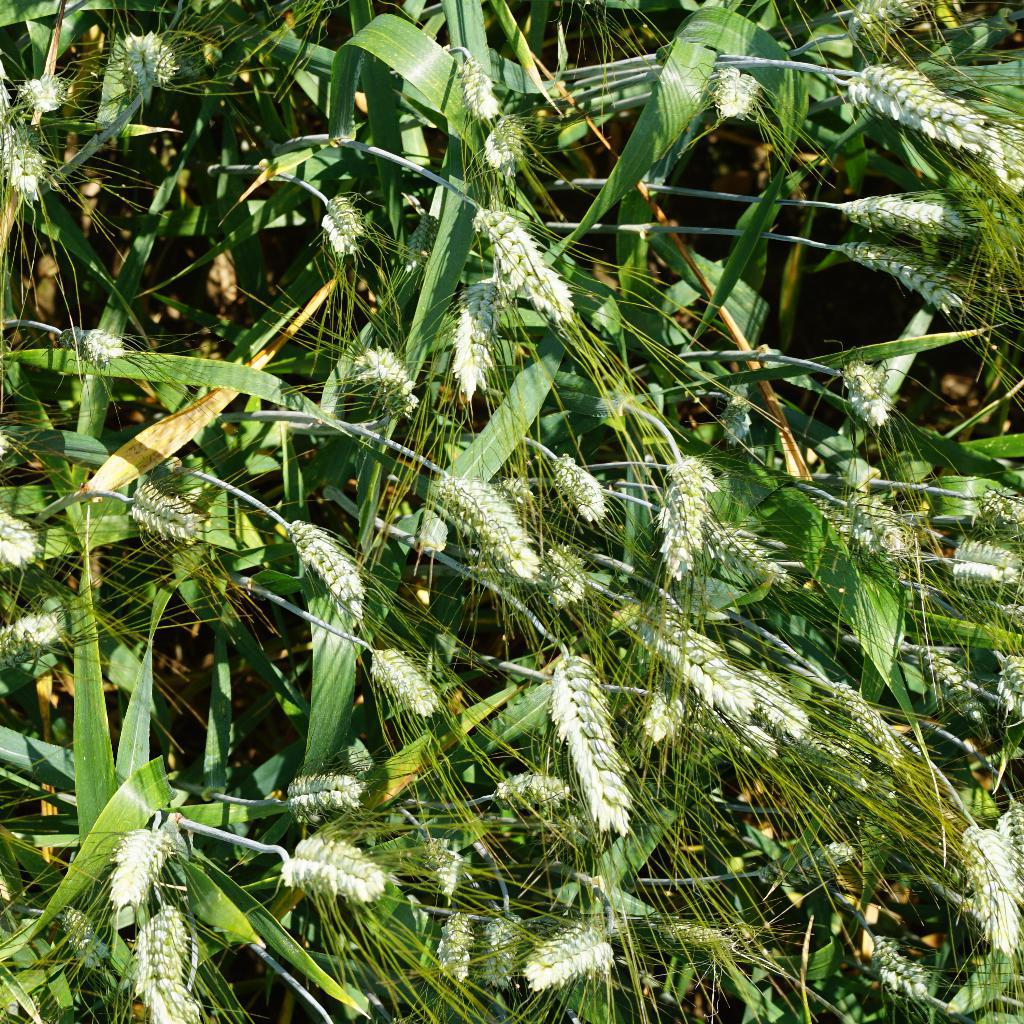0-0: (529, 632, 649, 834), (660, 608, 815, 744), (425, 460, 561, 586), (619, 595, 759, 717), (833, 223, 1001, 320), (464, 194, 589, 320), (854, 49, 997, 156), (122, 900, 223, 1022), (949, 800, 1024, 957), (286, 511, 385, 615), (747, 720, 883, 794), (836, 176, 968, 250), (105, 475, 221, 559), (276, 836, 403, 911), (526, 912, 626, 1006), (448, 264, 515, 400), (854, 923, 950, 1015), (893, 631, 986, 721), (354, 638, 449, 724), (834, 668, 912, 769), (340, 335, 434, 415), (657, 456, 714, 585), (930, 526, 1024, 604), (828, 486, 916, 568), (703, 511, 792, 590), (962, 105, 1024, 214), (103, 813, 164, 918), (0, 606, 82, 684), (742, 838, 870, 886), (832, 348, 905, 432), (484, 755, 574, 818), (546, 449, 616, 529), (631, 677, 703, 751), (477, 899, 527, 1005), (126, 22, 195, 98), (980, 765, 1024, 884), (279, 766, 369, 823), (3, 121, 63, 204), (653, 913, 747, 965), (444, 53, 514, 120), (806, 777, 898, 827), (58, 321, 135, 380), (467, 108, 538, 169), (313, 186, 380, 250), (0, 478, 44, 575), (413, 830, 474, 896), (700, 63, 767, 123), (433, 896, 477, 982), (547, 799, 610, 856), (537, 531, 591, 597), (43, 901, 100, 959), (399, 204, 443, 277), (15, 70, 70, 126), (849, 0, 926, 37), (971, 473, 1024, 522), (486, 475, 538, 516), (715, 391, 753, 446)
